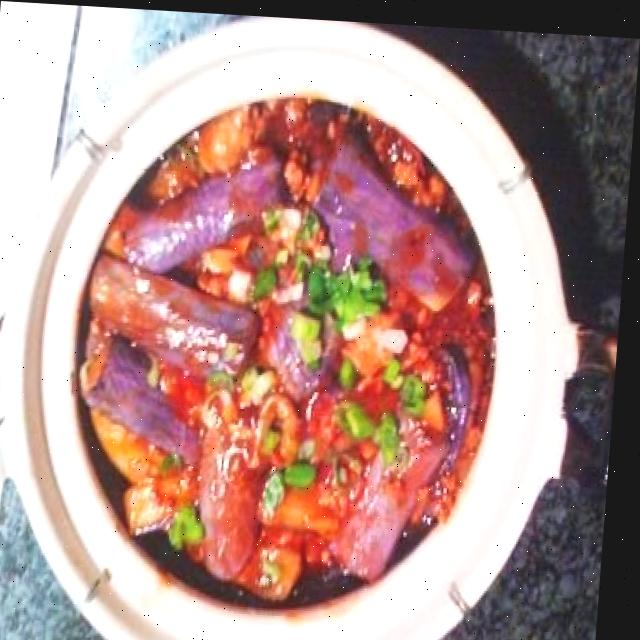鸡蛋料理: (8, 34, 570, 640)
